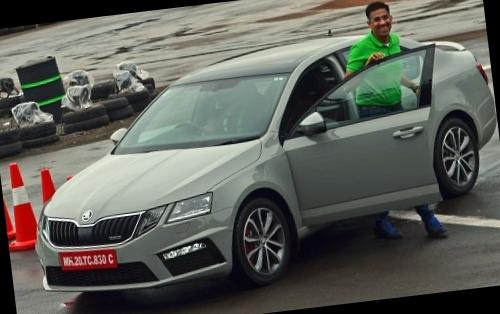plate: (49, 234, 128, 283)
